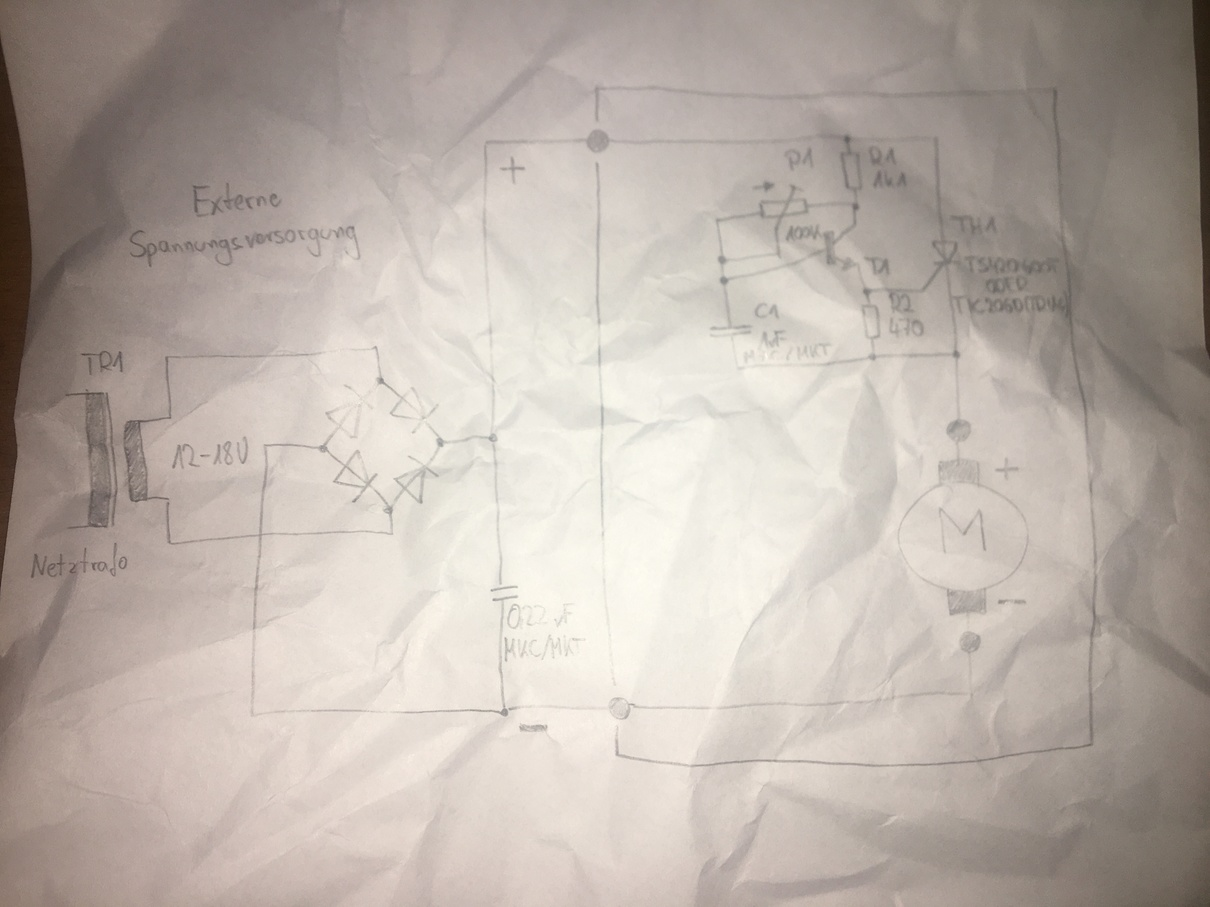capacitor.unpolarized: (707, 320, 753, 342), (488, 580, 522, 605)
crossover: (254, 529, 268, 541)
diode: (323, 383, 374, 440), (331, 449, 378, 504), (388, 385, 439, 435), (393, 453, 439, 505)
junction: (497, 703, 515, 719), (715, 252, 732, 268), (381, 501, 398, 516), (717, 273, 732, 287), (317, 441, 331, 456), (963, 687, 978, 701), (244, 707, 260, 720), (434, 435, 448, 449), (860, 285, 875, 298), (374, 374, 388, 387), (731, 363, 747, 374), (950, 347, 963, 360), (848, 199, 862, 211), (487, 431, 499, 445), (480, 136, 492, 150), (866, 351, 879, 363), (916, 285, 928, 297), (260, 440, 272, 452), (841, 133, 853, 144), (772, 249, 784, 260), (162, 495, 173, 507), (712, 215, 724, 225), (930, 132, 942, 142), (165, 538, 177, 548), (386, 529, 398, 539), (370, 342, 380, 353), (162, 353, 172, 363), (165, 412, 176, 421)
motor: (894, 456, 1032, 617)
resistor: (838, 148, 866, 192), (859, 302, 884, 342)
resistor.adjustable: (758, 183, 811, 229)
terminal: (64, 524, 73, 532), (63, 391, 70, 398)
text: (128, 223, 364, 270), (29, 540, 131, 580), (190, 179, 284, 219), (949, 293, 1070, 319), (169, 435, 250, 471), (502, 632, 586, 662), (962, 253, 1060, 275), (506, 601, 575, 630), (742, 342, 830, 363), (947, 212, 1000, 237), (80, 349, 127, 377), (781, 145, 817, 172), (982, 276, 1033, 294), (888, 316, 926, 340), (783, 222, 822, 244), (871, 169, 909, 191), (865, 144, 898, 167), (862, 254, 893, 276), (886, 292, 914, 314), (756, 328, 786, 348), (753, 300, 781, 321)
thyristor: (929, 238, 963, 273)
transformer: (81, 388, 152, 530)
transistor: (823, 220, 862, 274)
